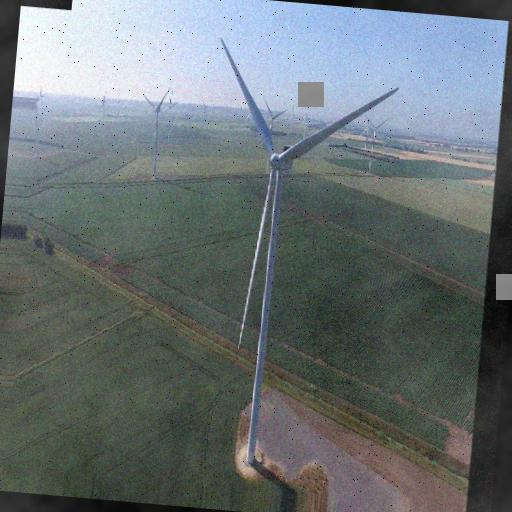wind turbine: (217, 36, 401, 473), (143, 86, 170, 180), (364, 115, 390, 174)
